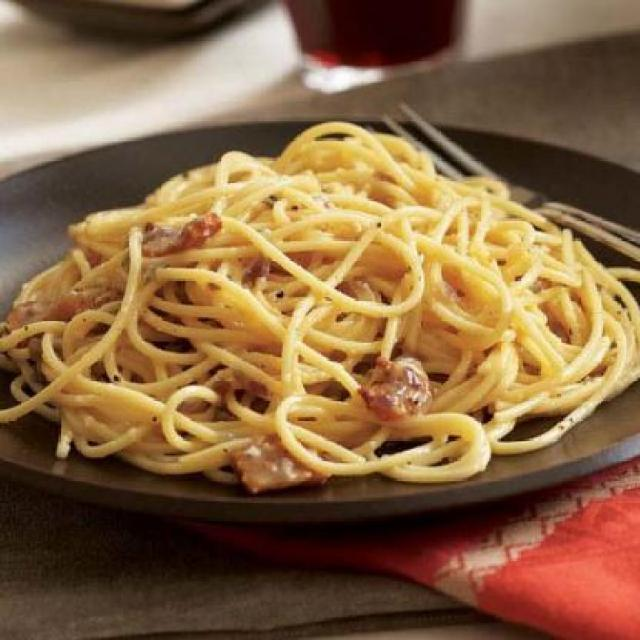Pasta with carbonara sauce: (16, 120, 639, 528)
